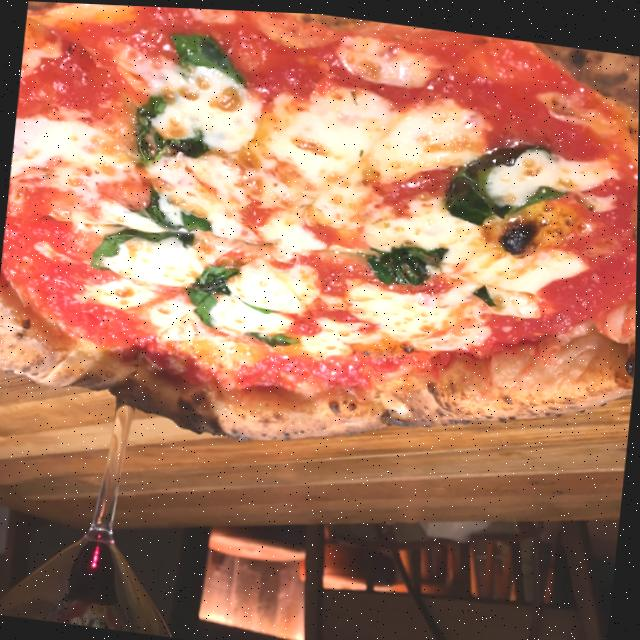basil: (438, 133, 568, 223), (93, 216, 188, 270), (130, 98, 202, 164), (157, 27, 246, 79), (127, 182, 212, 234), (365, 235, 441, 284), (185, 255, 234, 327), (242, 316, 292, 348)
pizza: (0, 0, 640, 481)
